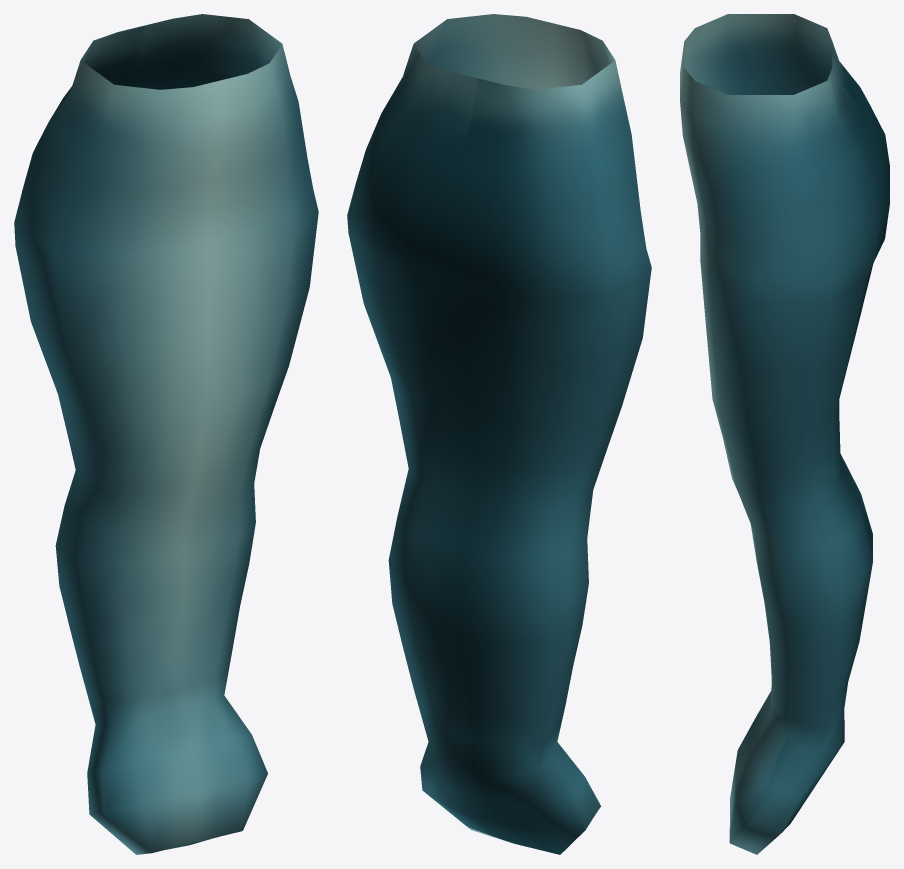
Rendered from tail4.obj.
3 views of the same model, side by side, from view 1: azimuth 30°, elevation 25°; view 2: azimuth 150°, elevation 25°; view 3: azimuth 270°, elevation 25° (orthographic).
Parts seen in each view (by area): view 1: Box001; view 2: Box001; view 3: Box001.
Boxes of the visible parts, bbox=[...] form: Box001: bbox=[14, 14, 318, 854]; Box001: bbox=[347, 14, 651, 854]; Box001: bbox=[680, 14, 889, 854].
Bounding box in the file's own units: 1.55 × 4.47 × 1.09.
